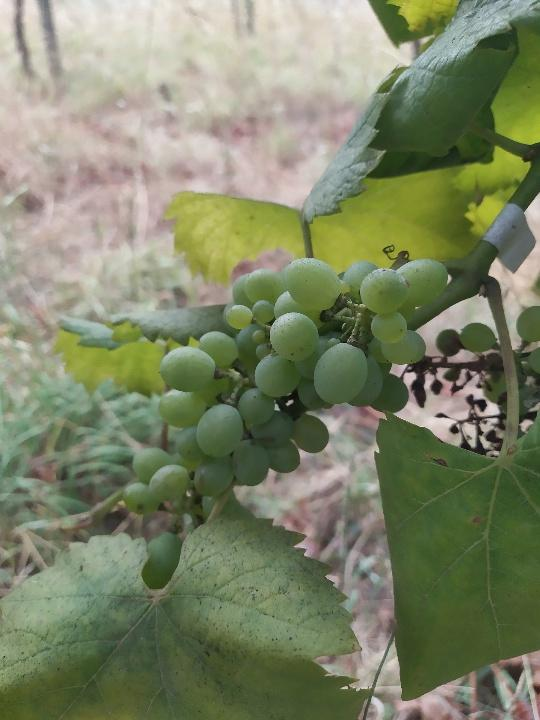grape: (121, 254, 453, 518)
